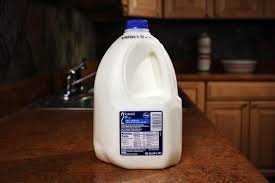milk: (94, 18, 182, 168)
